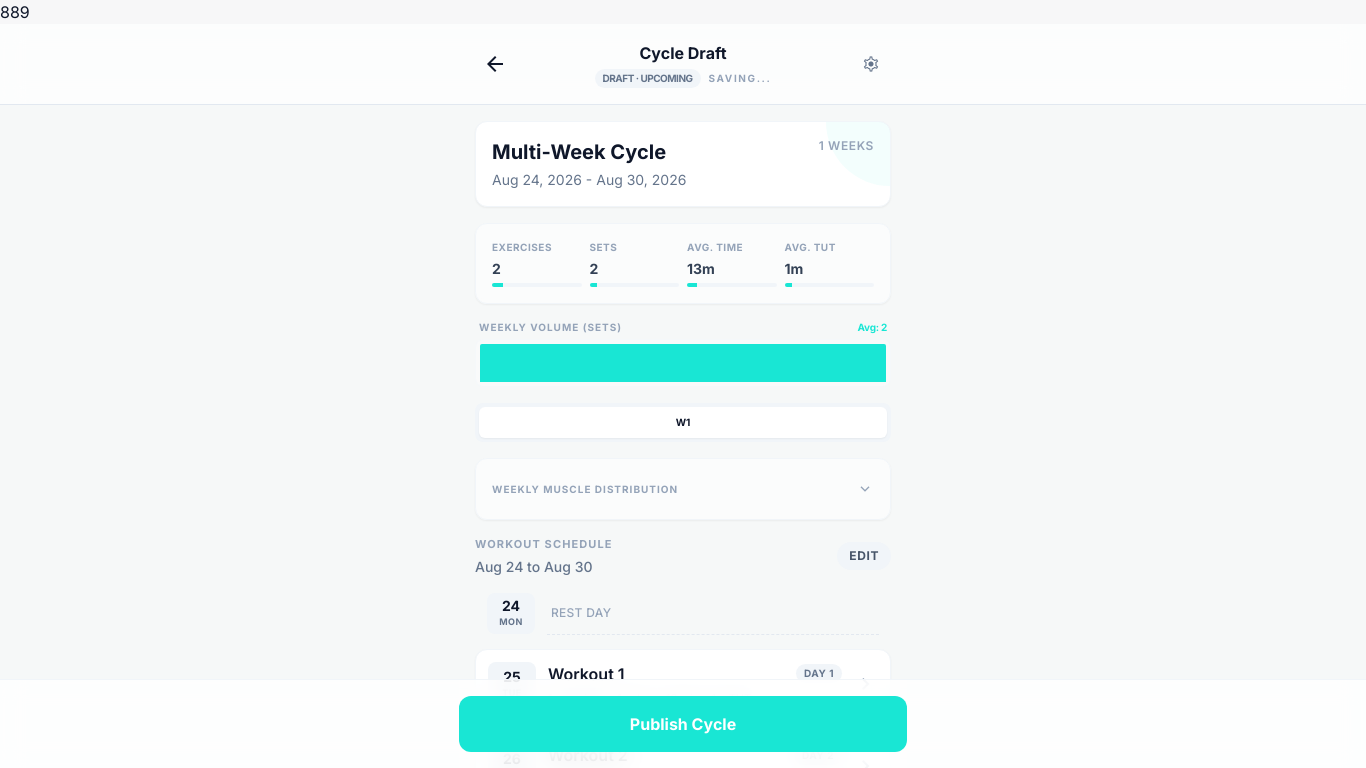
Scenario: ManualBuilderMulti workout terminal-action barrier › Publish re-flushes workout content preserved as newer than an in-flight structural save
Step 1. Click the button "Publish Cycle" → (683,724), box [459,696,907,752]
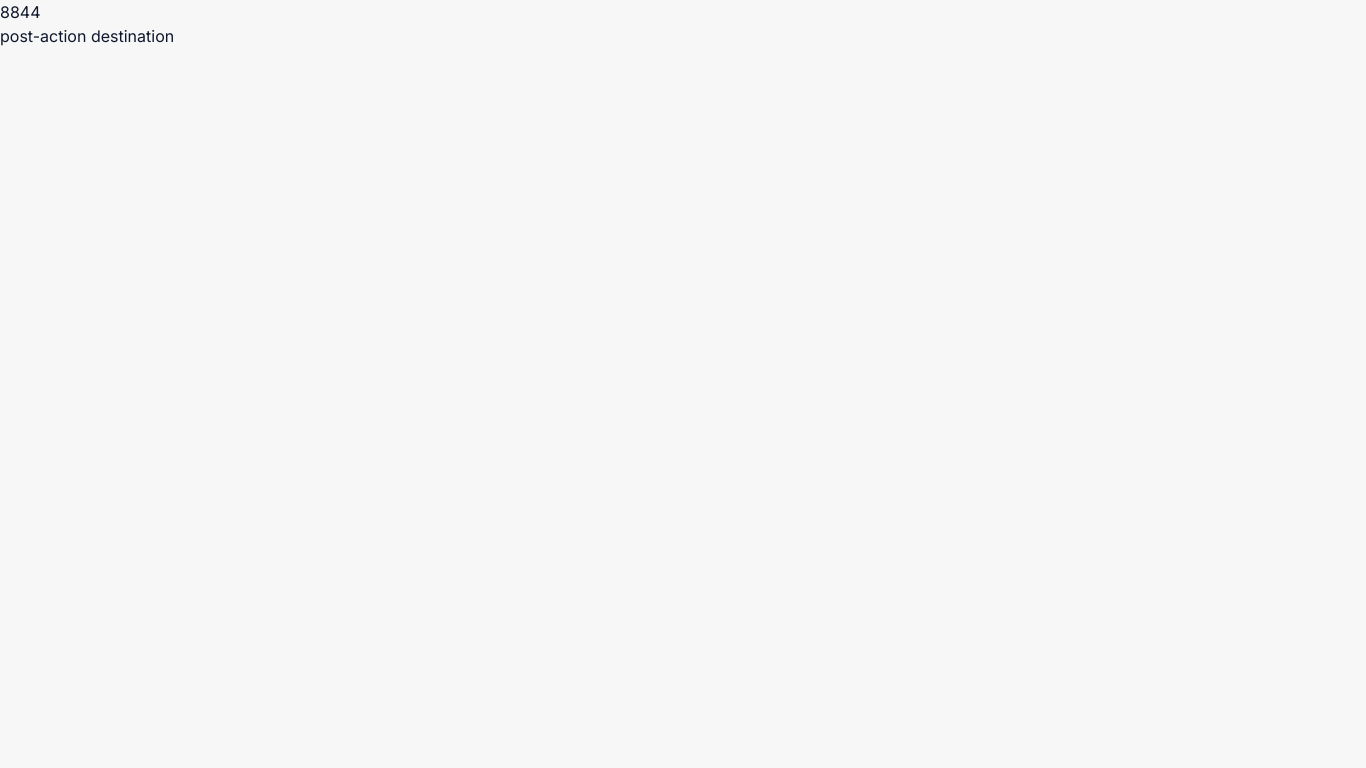
Expected: the text with test id "local-reps-workout_2" reads "44", [20,2,40,22]
